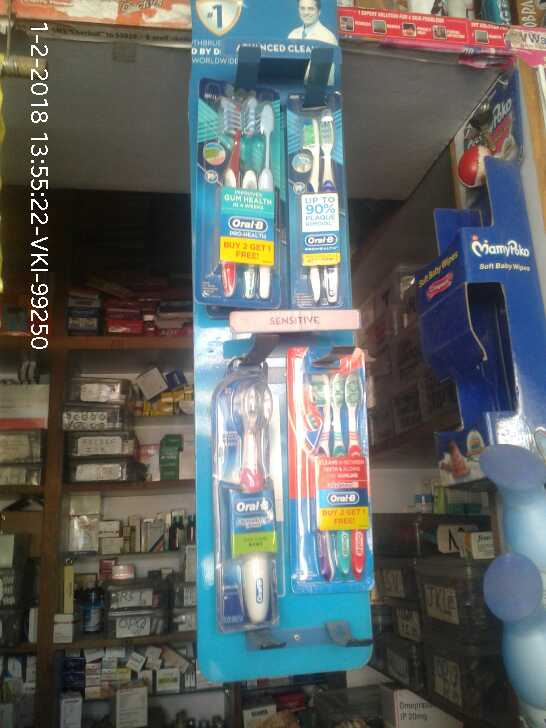oralb: (289, 344, 370, 590), (196, 75, 278, 306), (213, 374, 281, 628), (289, 90, 343, 304)
